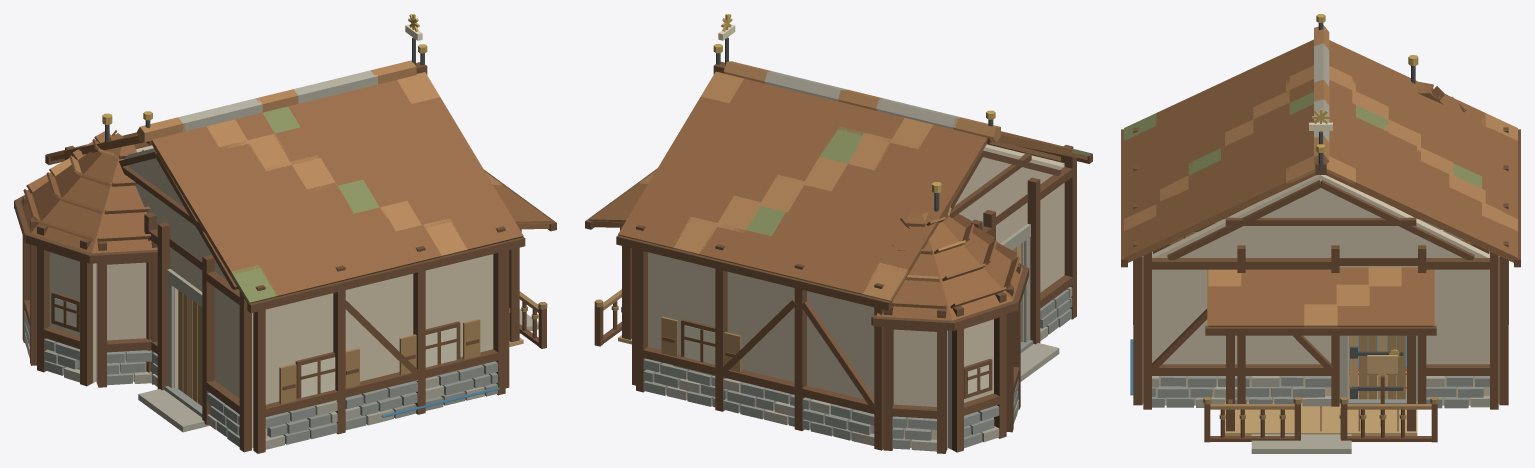
The model's file is holm_quest_lodge_v2.glb.
3 renders of one model, left to right at view 1: azimuth 30°, elevation 25°; view 2: azimuth 150°, elevation 25°; view 3: azimuth 270°, elevation 25°, orthographic. The views are drawn at different scales.
Parts seen in each view (by area): view 1: Roof_Workyard_Shingle_Umber, Static_Workyard_Oak_Dark, Static_Workyard_Warm_Limewash, Static_Workyard_Fieldstone, Roof_Workyard_Shingle_Sun, Roof_Workyard_Oak_Dark, Static_Workyard_Fieldstone_Light, Roof_Workyard_Warm_Limewash, Static_Workyard_Oak_Worn, Roof_Workyard_Fieldstone_Light, Roof_Workyard_Shingle_Moss, Static_Workyard_Chalk (+1 smaller); view 2: Roof_Workyard_Shingle_Umber, Static_Workyard_Oak_Dark, Static_Workyard_Warm_Limewash, Roof_Workyard_Shingle_Sun, Static_Workyard_Fieldstone, Roof_Workyard_Oak_Dark, Static_Workyard_Fieldstone_Light, Roof_Workyard_Warm_Limewash, Roof_Workyard_Fieldstone_Light, Roof_Workyard_Shingle_Moss, Static_Workyard_Oak_Worn, Static_Workyard_Chalk; view 3: Roof_Workyard_Shingle_Umber, Static_Workyard_Oak_Dark, Static_Workyard_Warm_Limewash, Roof_Workyard_Warm_Limewash, Roof_Workyard_Shingle_Sun, Roof_Workyard_Oak_Dark, Static_Workyard_Fieldstone, Static_Workyard_Fresh_Cut, Static_Workyard_Fieldstone_Light, Roof_Workyard_Shingle_Moss, lodge_door_Workyard_Oak_Worn, Static_Workyard_Oak_Worn (+5 smaller).
Part boxes in pixels (x1,y1,x2,y2): Roof_Workyard_Shingle_Umber: (20,80,552,302); Static_Workyard_Oak_Dark: (22,142,546,453); Static_Workyard_Warm_Limewash: (49,145,493,448); Static_Workyard_Fieldstone: (24,311,497,446); Roof_Workyard_Shingle_Sun: (47,60,502,256); Roof_Workyard_Oak_Dark: (14,62,556,312); Static_Workyard_Fieldstone_Light: (27,269,538,449); Roof_Workyard_Warm_Limewash: (124,148,226,279); Static_Workyard_Oak_Worn: (279,291,547,404); Roof_Workyard_Fieldstone_Light: (178,70,377,131); Roof_Workyard_Shingle_Moss: (231,106,379,303); Static_Workyard_Chalk: (54,298,456,397); Roof_Workyard_Shingle_Umber: (589,78,1087,320); Static_Workyard_Oak_Dark: (594,141,1076,453); Static_Workyard_Warm_Limewash: (648,144,1064,449); Roof_Workyard_Shingle_Sun: (639,61,1000,301); Static_Workyard_Fieldstone: (643,289,1072,449); Roof_Workyard_Oak_Dark: (585,61,1092,330); Static_Workyard_Fieldstone_Light: (621,224,1072,451); Roof_Workyard_Warm_Limewash: (952,147,1063,226); Roof_Workyard_Fieldstone_Light: (764,71,960,129); Roof_Workyard_Shingle_Moss: (746,126,1090,236); Static_Workyard_Oak_Worn: (594,289,741,372); Static_Workyard_Chalk: (684,325,988,393); Roof_Workyard_Shingle_Umber: (1124,39,1517,326); Static_Workyard_Oak_Dark: (1133,127,1508,442); Static_Workyard_Warm_Limewash: (1142,219,1499,405); Roof_Workyard_Warm_Limewash: (1152,175,1489,257); Roof_Workyard_Shingle_Sun: (1124,25,1517,326); Roof_Workyard_Oak_Dark: (1121,129,1520,335); Static_Workyard_Fieldstone: (1152,376,1489,408); Static_Workyard_Fresh_Cut: (1225,355,1417,435); Static_Workyard_Fieldstone_Light: (1152,335,1489,453); Roof_Workyard_Shingle_Moss: (1124,92,1481,188); lodge_door_Workyard_Oak_Worn: (1359,335,1405,399); Static_Workyard_Oak_Worn: (1203,371,1438,419).
Bounding box in the file's own units: 12.6 × 8.65 × 10.38.
